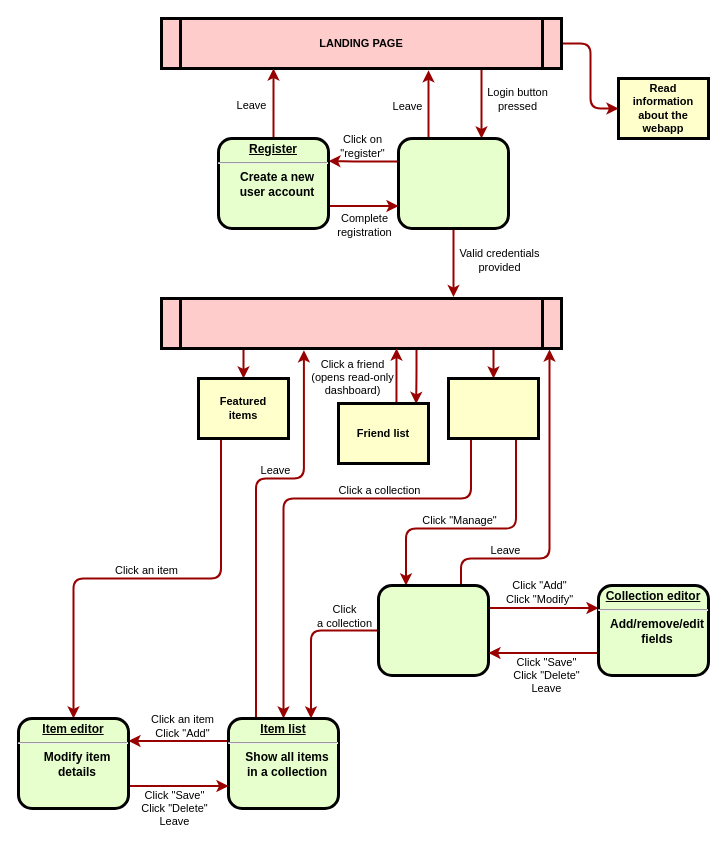
Image size: 727x851. Some labels were removed from this diagram. The shapes that lost their labels are listed below. From the top down, each one's box as (x1, y1, x2, y2) in pixels, then its label:
(396, 136, 510, 230): Login User is asked for their credentials
(160, 296, 562, 350): DASHBOARD
(446, 376, 540, 440): Collection summary
(376, 584, 490, 676): Collection list Show all of the user's collections
